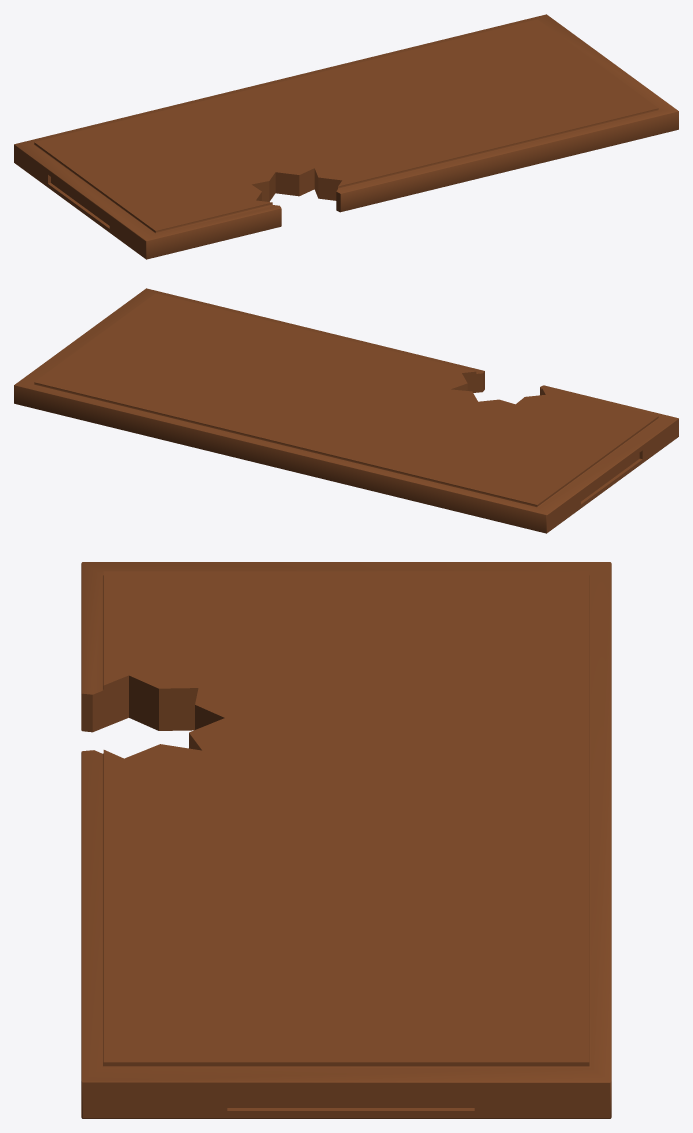
The model's file is SM_Planche_trou.fbx.
3 views of the same model, one above another, from view 1: azimuth 30°, elevation 25°; view 2: azimuth 150°, elevation 25°; view 3: azimuth 270°, elevation 25° (orthographic). The views are drawn at different scales.
Visible parts, largest first — view 1: planche a decouper_trou; view 2: planche a decouper_trou; view 3: planche a decouper_trou.
Boxes of the visible parts, x1=… form: planche a decouper_trou: x1=14, y1=14, x2=678, y2=259; planche a decouper_trou: x1=14, y1=288, x2=678, y2=533; planche a decouper_trou: x1=81, y1=562, x2=611, y2=1118.
Bounding box in the file's own units: 4573 × 174 × 1969.
